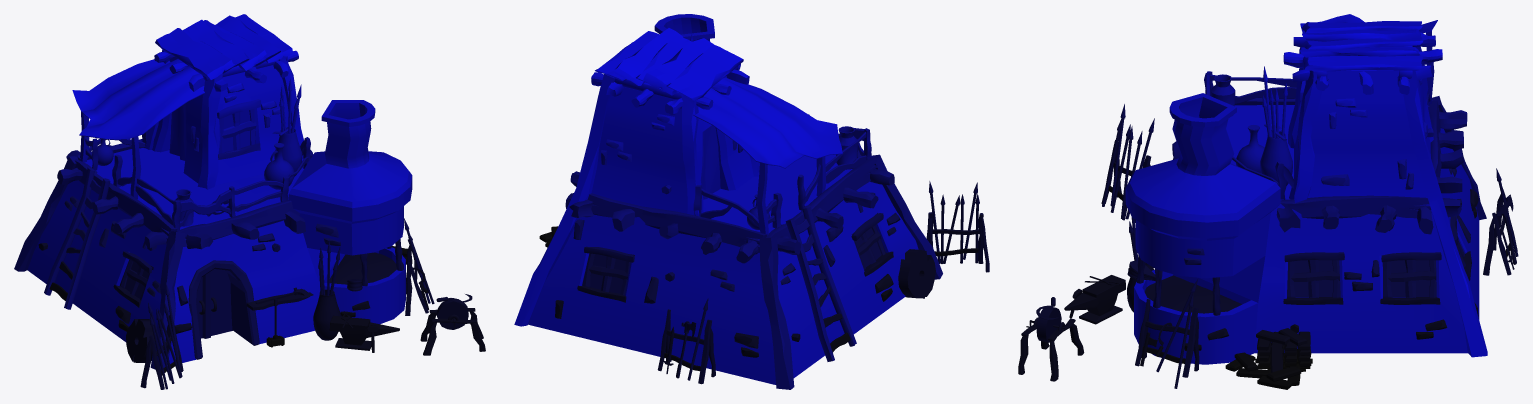
File: weaponsmith.fbx
The picture shows the model from 3 angles, left to right: view 1: azimuth 30°, elevation 25°; view 2: azimuth 150°, elevation 25°; view 3: azimuth 270°, elevation 25°; orthographic projection. The views are drawn at different scales.
Visible parts, largest first — view 1: Weaponsmith; view 2: Weaponsmith; view 3: Weaponsmith.
Boxes of the visible parts, bbox=[...] form: Weaponsmith: bbox=[14, 14, 485, 389]; Weaponsmith: bbox=[514, 14, 989, 389]; Weaponsmith: bbox=[1018, 14, 1518, 389].
Bounding box in the file's own units: 1222 × 826 × 1324.
